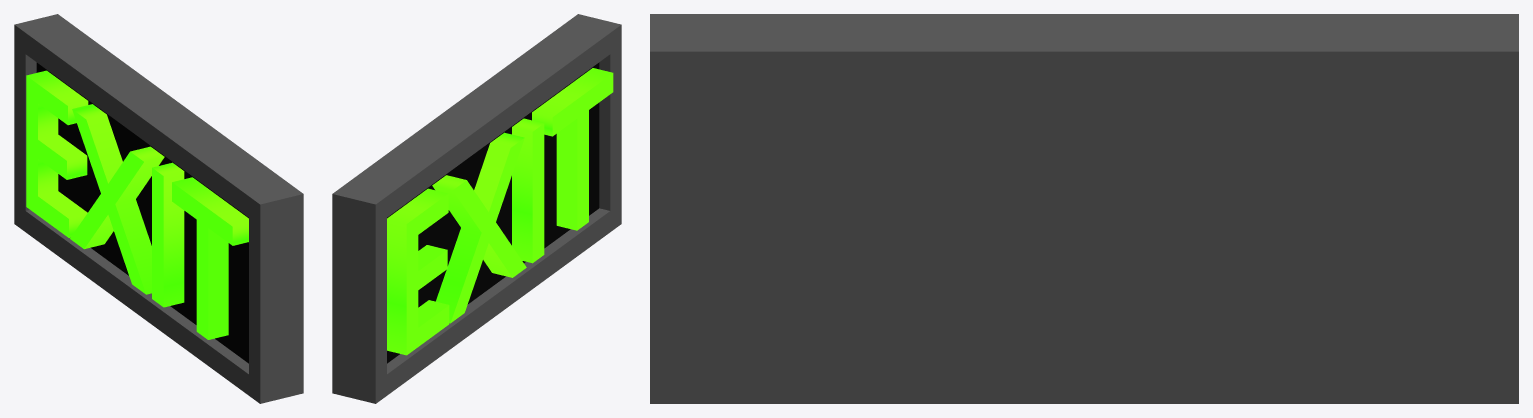
The model's file is exit.fbx.
The picture shows the model from 3 angles, left to right: view 1: azimuth 30°, elevation 25°; view 2: azimuth 150°, elevation 25°; view 3: azimuth 270°, elevation 25°; orthographic projection. The views are drawn at different scales.
Parts seen in each view (by area): view 1: Cube.023; view 2: Cube.023; view 3: Cube.023.
Boxes of the visible parts, x1,y1,x2,y2 form: Cube.023: (14,14,303,403); Cube.023: (332,14,621,403); Cube.023: (650,14,1518,403).
Bounding box in the file's own units: 29.41 × 106 × 236.
